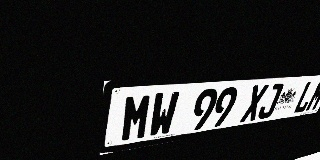9: (189, 88, 220, 131), (209, 86, 240, 128)
J: (256, 83, 285, 120)
L: (292, 80, 319, 114)
M: (120, 93, 154, 143), (304, 80, 320, 112)
W: (147, 91, 180, 138)
X: (240, 84, 269, 123)
